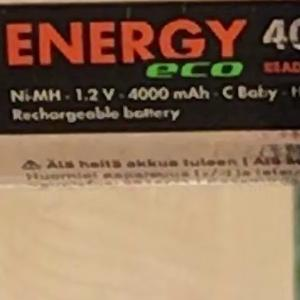NIMH: (2, 80, 69, 111)
